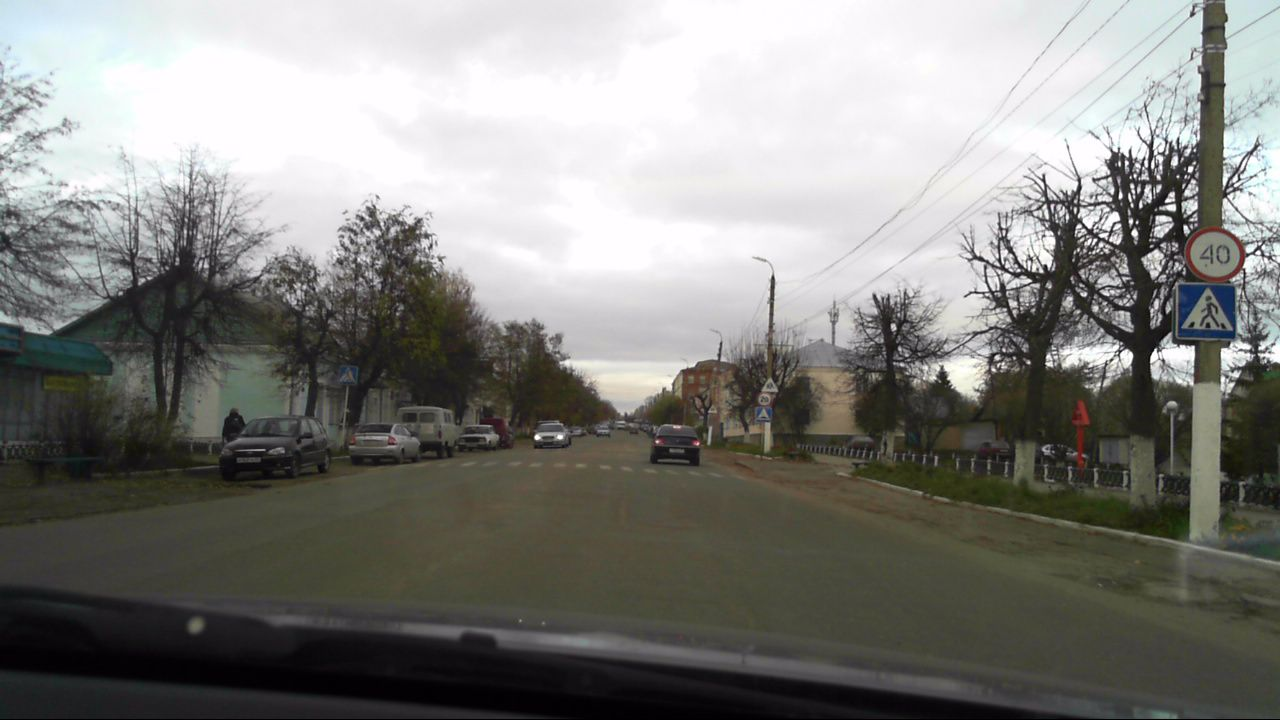speed_warning_40: (1185, 224, 1242, 283)
